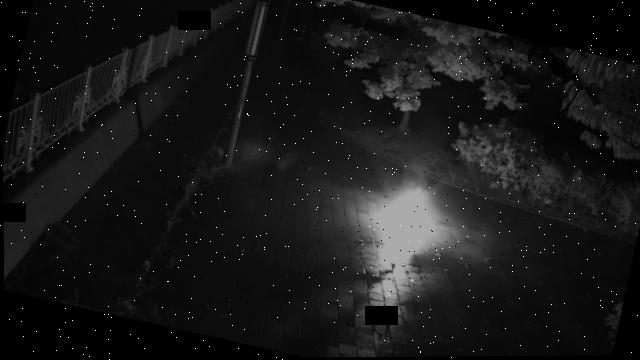fire: (359, 180, 453, 283)
